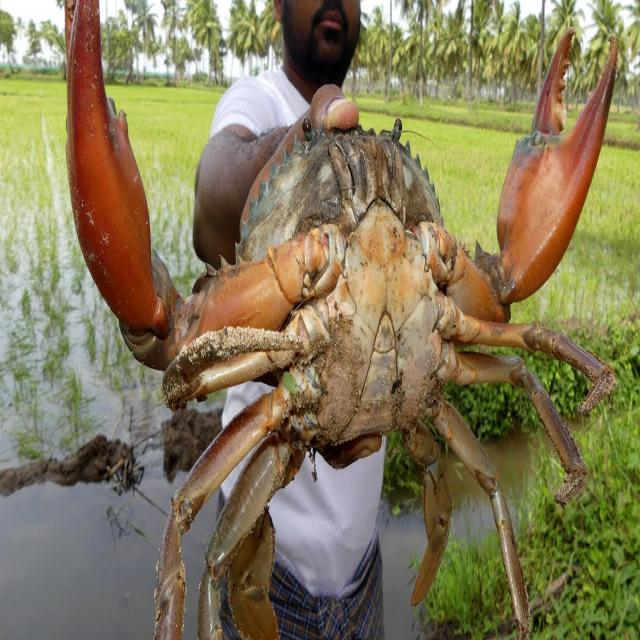crab: (218, 132, 492, 496)
